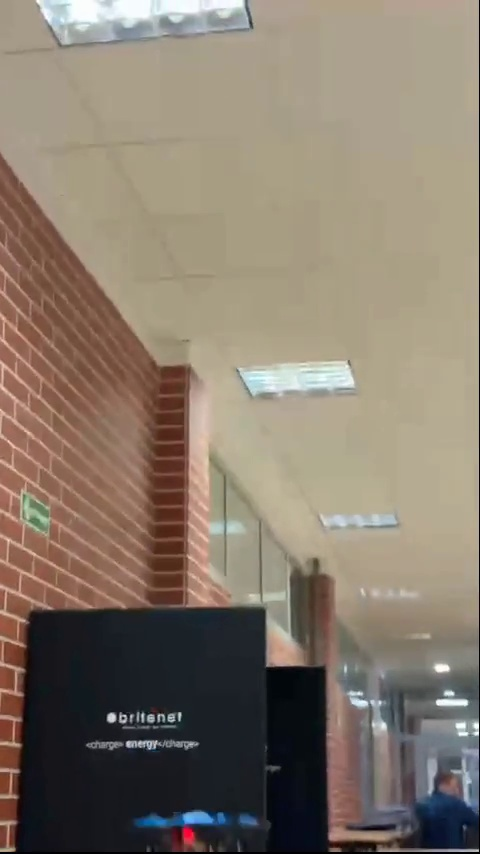drone: (134, 808, 262, 852)
no vest: (411, 772, 479, 846)
